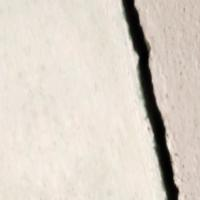crack: (94, 0, 190, 199)
